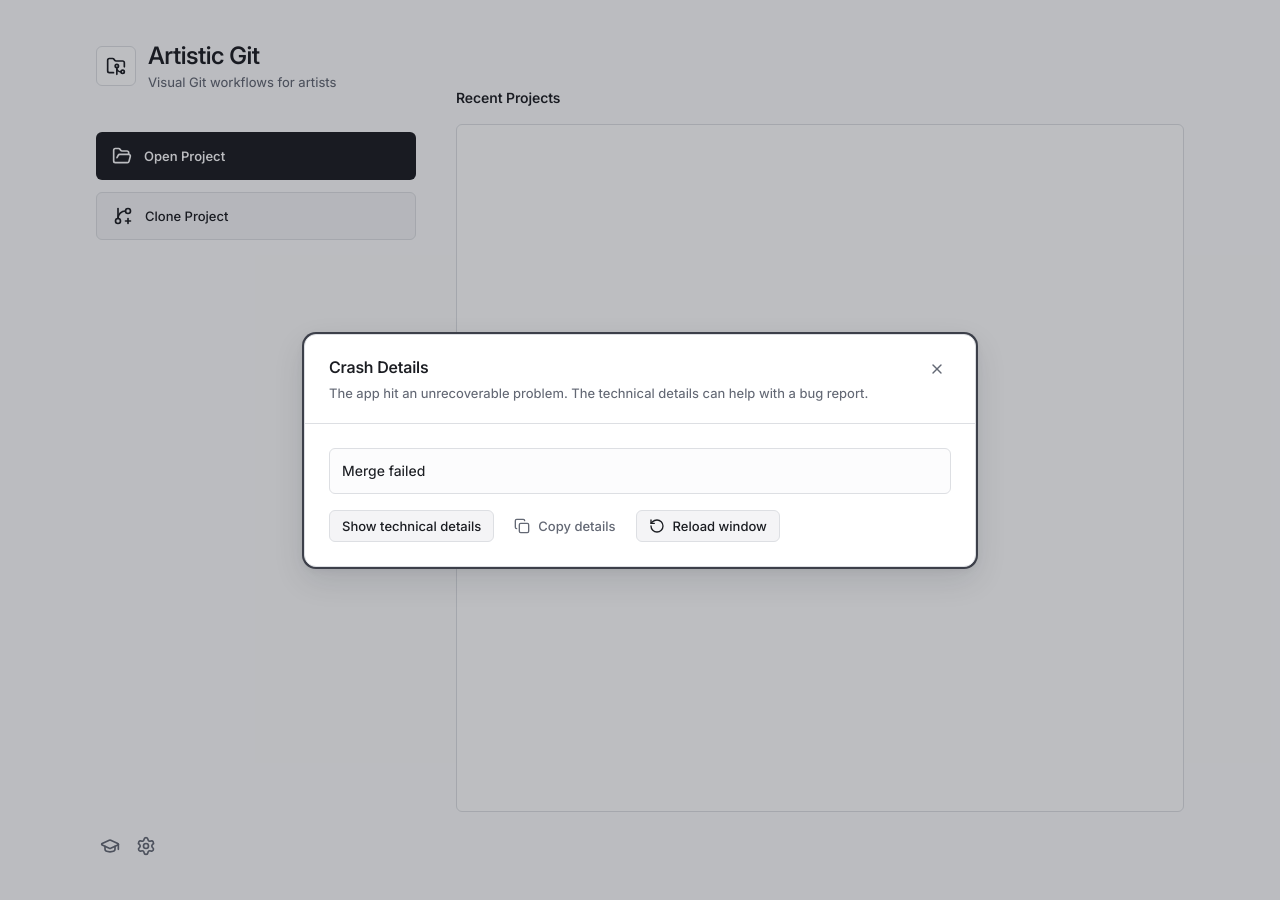
Test: App › preserves structured crash details and handles circular values
Expected: the dialog "Crash Details" shows "Merge failed", [342,462,425,478]
Click the button "Show technical details". click: click(412, 526)
box: [329,510,494,542]
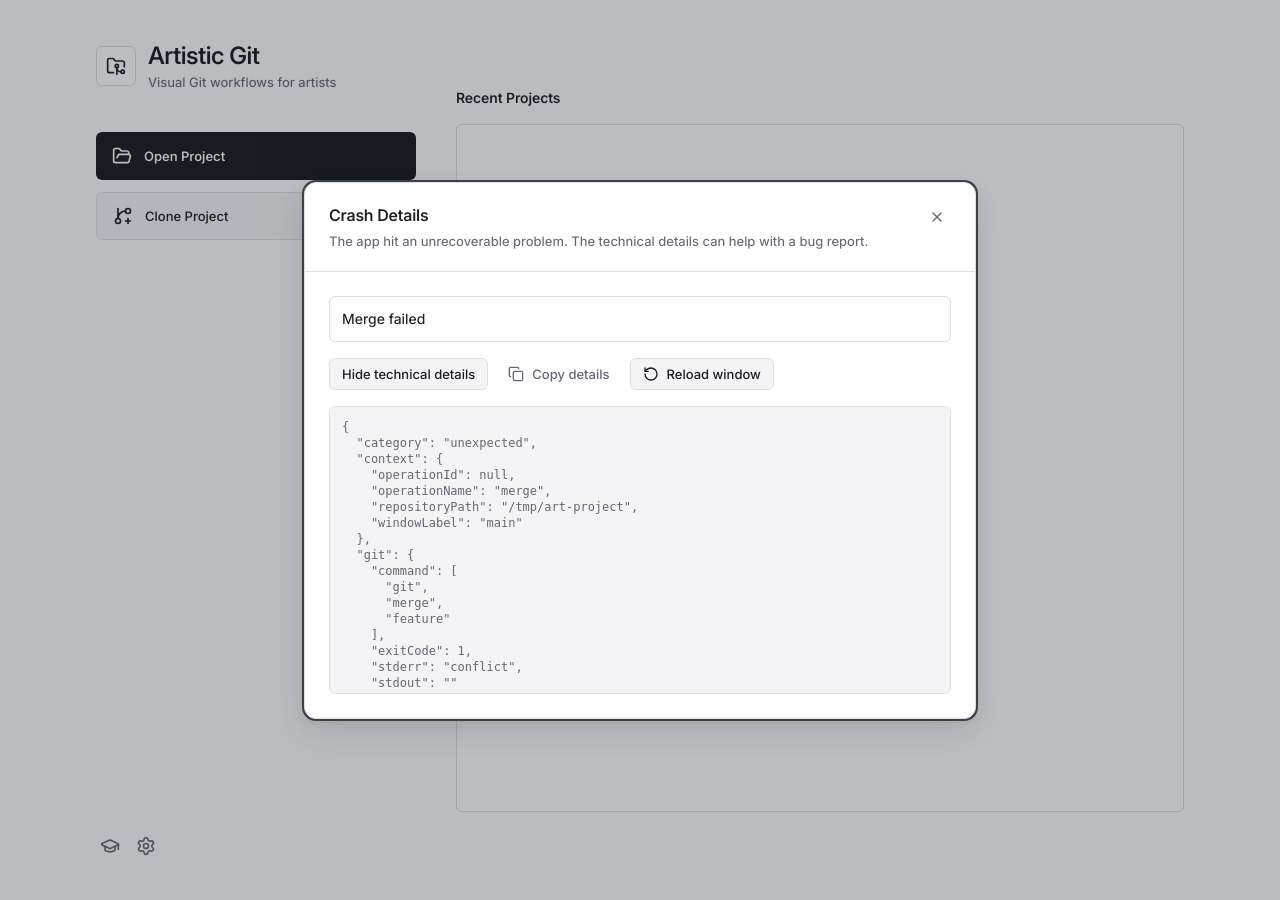
Result: the dialog "Crash Details" shows "\"stderr\": \"conflict\"" at [342,420,638,754]
Result: the dialog "Crash Details" shows "\"self\": \"[Circular]\"" at [342,420,638,754]
